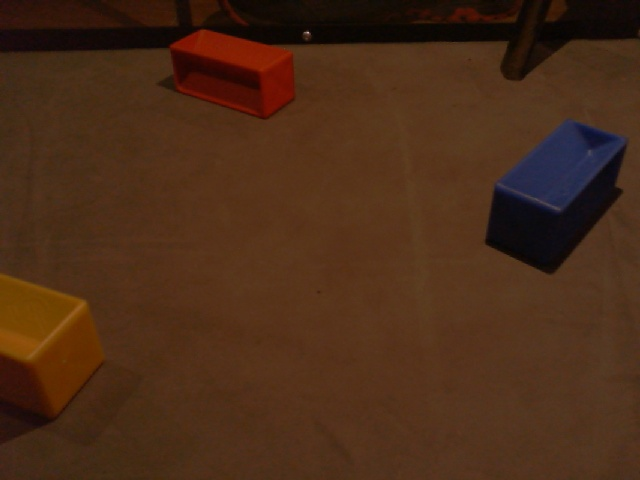BlueSample: (483, 116, 630, 269)
RedSample: (166, 27, 296, 121)
YellowSample: (1, 269, 108, 421)
